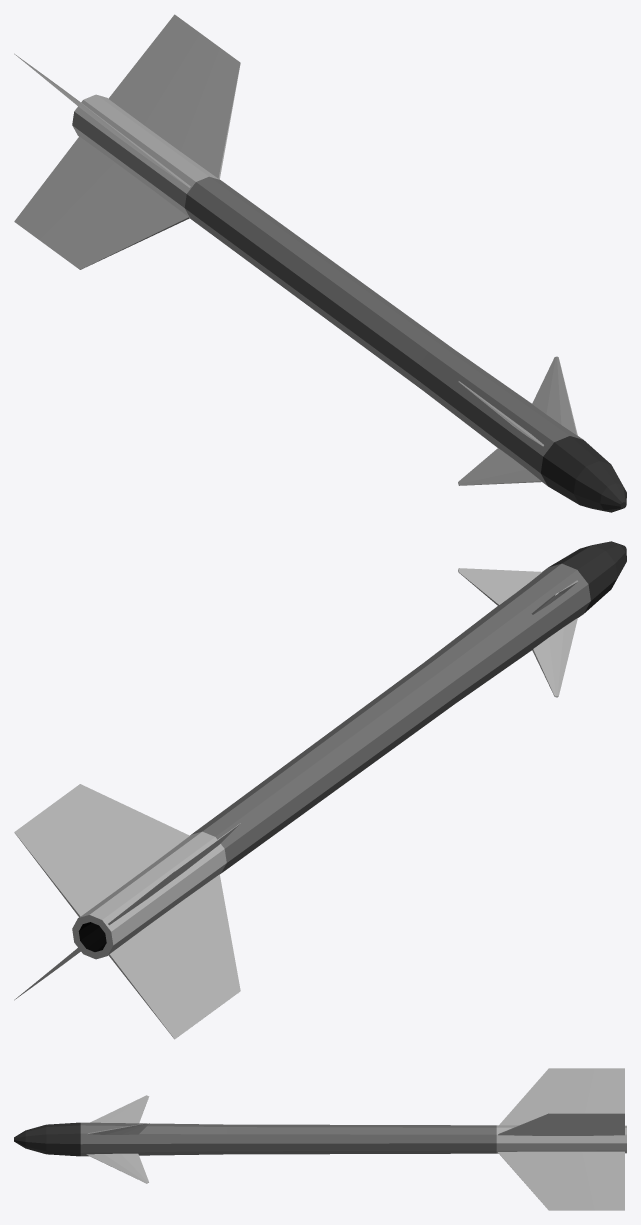
File: SM_missile05.fbx
3 renders of one model, top to bottom at view 1: azimuth 30°, elevation 25°; view 2: azimuth 150°, elevation 25°; view 3: azimuth 270°, elevation 25°, orthographic. The views are drawn at different scales.
Visible parts, largest first — view 1: Cylinder; view 2: Cylinder; view 3: Cylinder.
Part boxes in pixels (x1,y1,x2,y2): Cylinder: (14, 14, 626, 512); Cylinder: (14, 541, 626, 1039); Cylinder: (14, 1068, 626, 1210).
Bounding box in the file's own units: 55.63 × 55.63 × 317.
